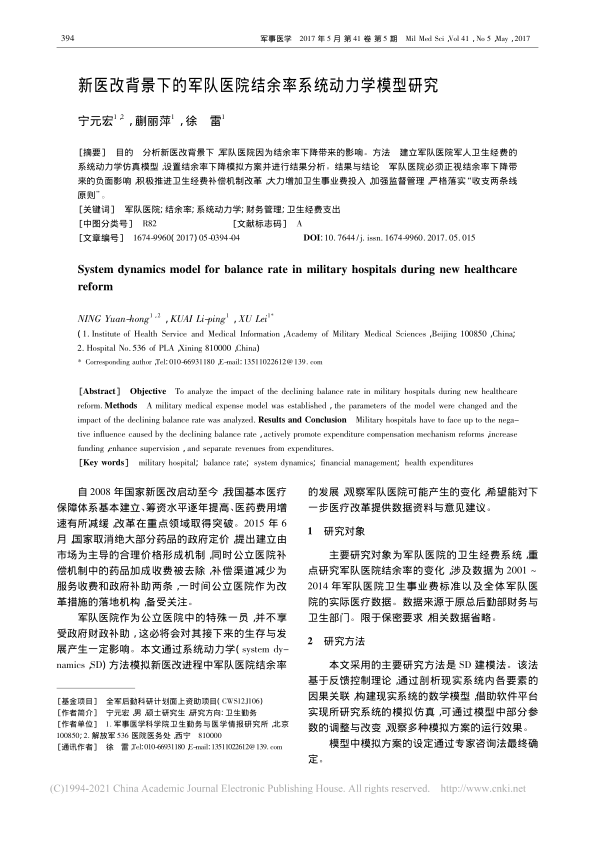Header: (259, 32, 530, 43), (61, 34, 74, 42)
Reference: (55, 697, 288, 751)
Text: (76, 145, 518, 242), (77, 383, 520, 470), (57, 486, 288, 606), (74, 313, 517, 366), (307, 659, 539, 732), (308, 549, 537, 622), (57, 612, 289, 673), (307, 486, 540, 512), (308, 738, 540, 764), (78, 114, 227, 126)
Title: (76, 262, 518, 292), (78, 77, 439, 93), (307, 633, 367, 645), (308, 526, 367, 538)
